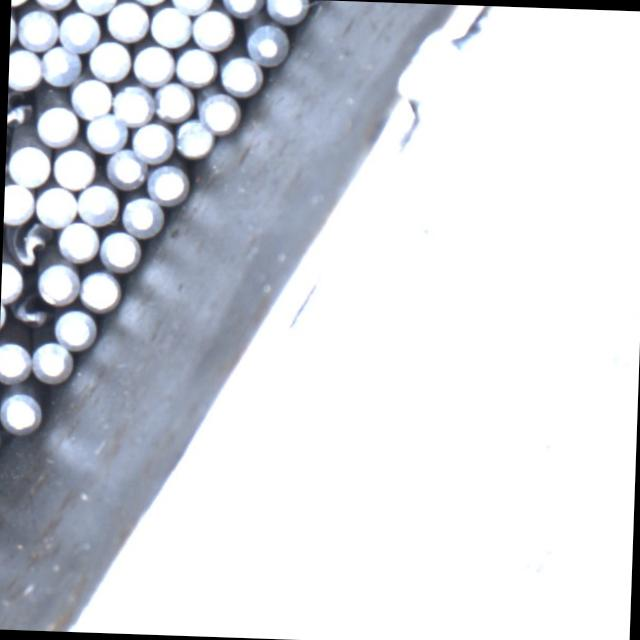tool: (35, 258, 80, 304), (35, 102, 80, 146), (128, 118, 172, 162), (65, 75, 111, 117), (7, 142, 51, 185), (190, 8, 234, 50), (76, 182, 120, 224), (34, 183, 76, 226), (15, 8, 58, 50), (56, 219, 99, 261), (52, 145, 94, 188), (111, 81, 152, 125), (130, 42, 172, 84), (88, 38, 130, 80), (148, 4, 190, 45), (78, 269, 120, 310), (58, 7, 98, 50), (84, 112, 127, 152), (151, 80, 193, 120), (174, 45, 216, 85), (107, 0, 149, 40), (104, 148, 146, 188), (218, 54, 260, 94), (29, 339, 71, 379), (0, 391, 40, 433), (99, 228, 140, 268), (40, 43, 80, 84), (53, 309, 93, 350), (244, 22, 285, 62), (146, 162, 186, 203), (120, 194, 162, 233), (198, 91, 238, 130), (174, 118, 214, 157), (8, 45, 41, 89), (0, 344, 31, 384), (4, 180, 32, 224), (264, 0, 306, 21), (1, 258, 22, 300), (219, 0, 261, 15), (72, 0, 115, 12), (170, 0, 211, 11), (31, 0, 74, 10)
tool_b: (6, 221, 52, 269), (11, 294, 52, 328), (7, 88, 30, 128)
